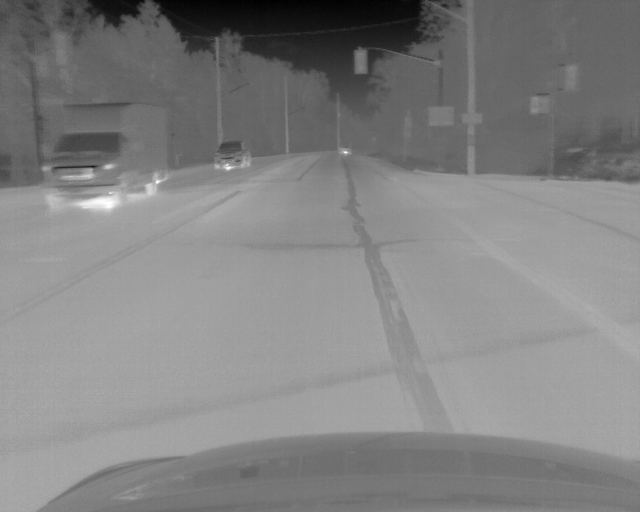car: (38, 102, 168, 211), (213, 140, 252, 174), (337, 143, 352, 156)
